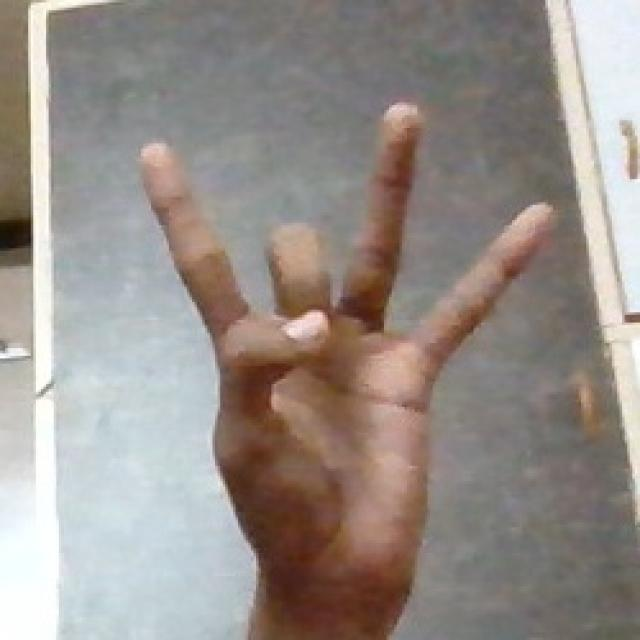Numeric-8: (143, 103, 557, 613)
